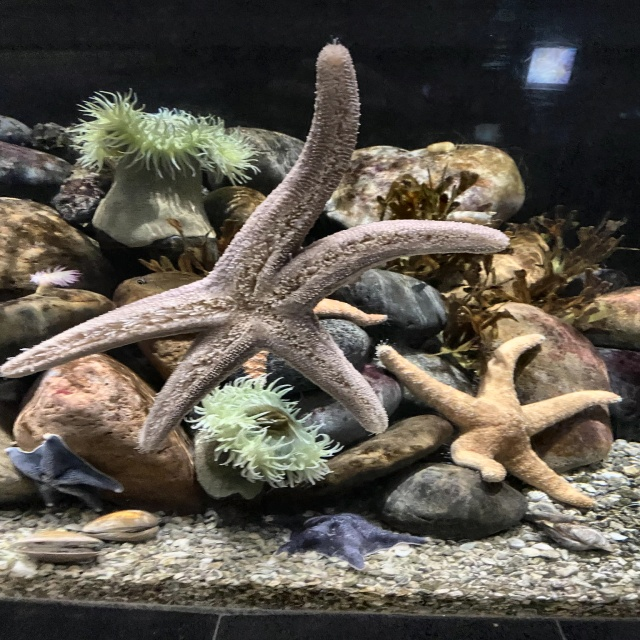starfish: (1, 43, 511, 455), (374, 332, 622, 511)
